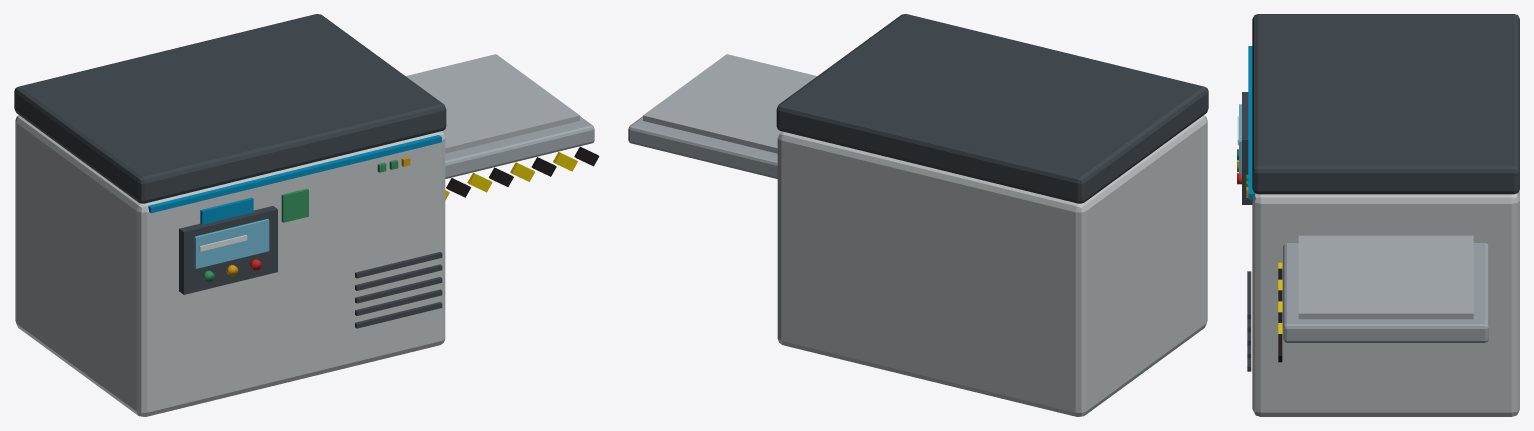
The model's file is m_ctp.glb.
3 renders of one model, left to right at view 1: azimuth 30°, elevation 25°; view 2: azimuth 150°, elevation 25°; view 3: azimuth 270°, elevation 25°, orthographic. The views are drawn at different scales.
Visible parts, largest first — view 1: m_ctp; view 2: m_ctp; view 3: m_ctp.
Boxes of the visible parts, left/top/right/bottom form: m_ctp: left=14, top=14, right=599, bottom=416; m_ctp: left=628, top=14, right=1208, bottom=416; m_ctp: left=1237, top=14, right=1519, bottom=416.
Size of the model in its own units: 0.5512 by 0.27 by 0.275.
